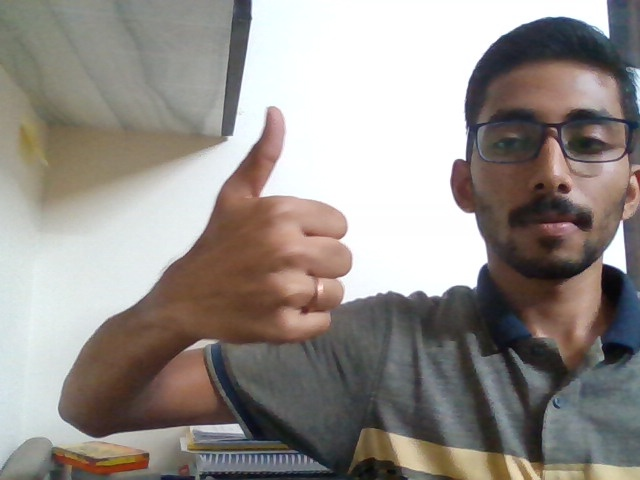Yes: (158, 96, 369, 365)
